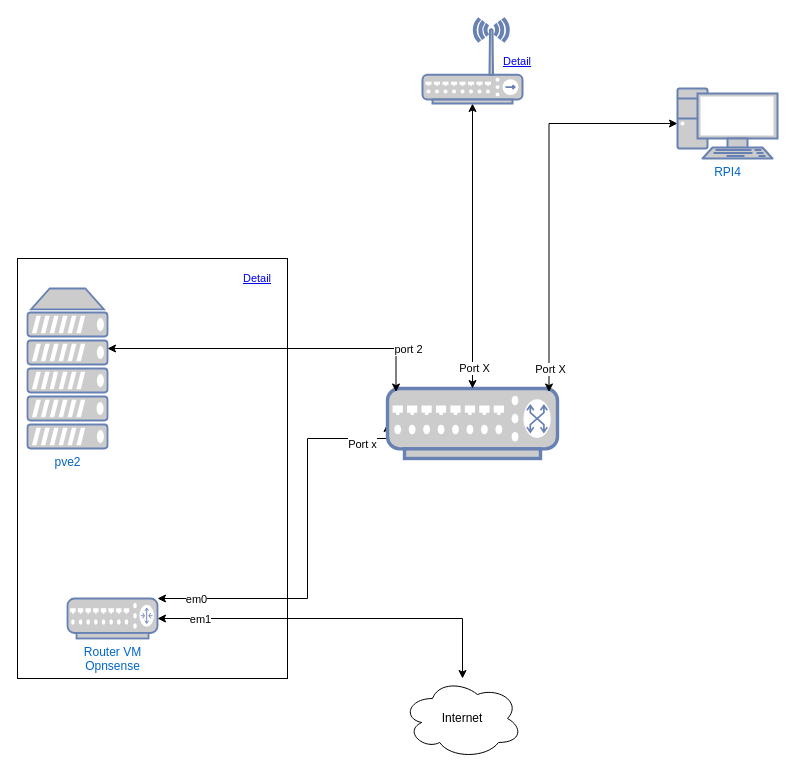
This 796x776 diagram has some shape labels left out. The box of each missing label's shape, as (x1, y1, x2, y2) in pixels:
TP-Link switch: (386, 387, 558, 459)
Unifi AP AC lite: (421, 17, 523, 104)
